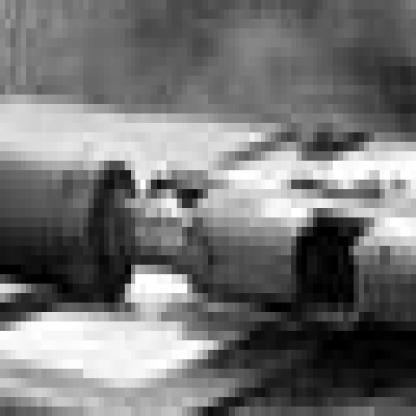gun: (0, 66, 411, 407)
